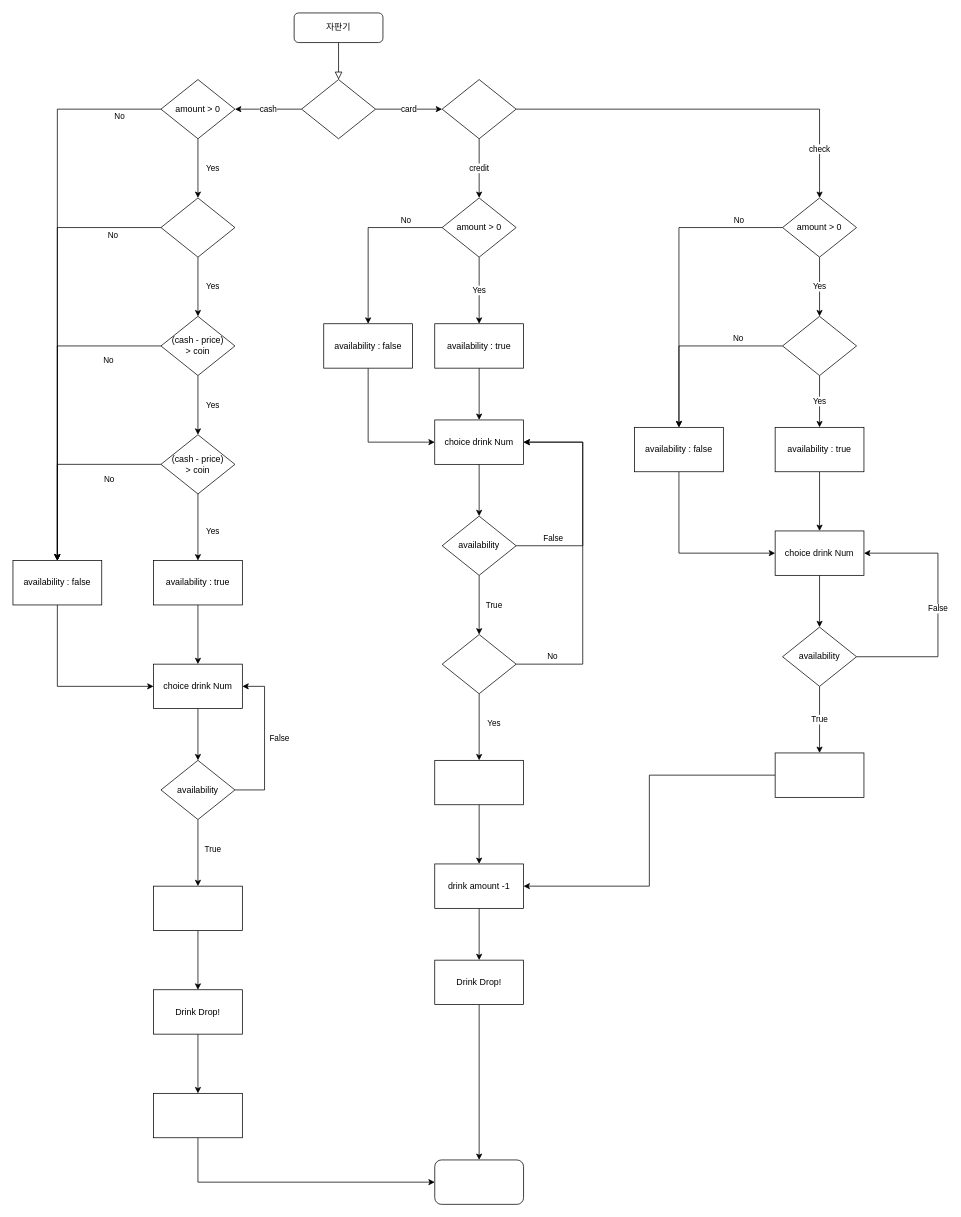
Some shapes in this 961 by 1217 pixel diagram are drawn without their labels. The shapes that lost their labels are listed below. From the top down, each one's centre as x and y in pixels, then its label:
At (338,109): "cash ? card".
At (478,109): "check ? credit".
At (197,227): "cash > price".
At (819,346): "balance > price".
At (478,664): "limit > ( payment + price )".
At (479,782): "payment += price".
At (819,774): "balance - price".
At (197,908): "drink amount - 1".
At (197,1115): "Change Money Back!".
At (479,1181): "end".
